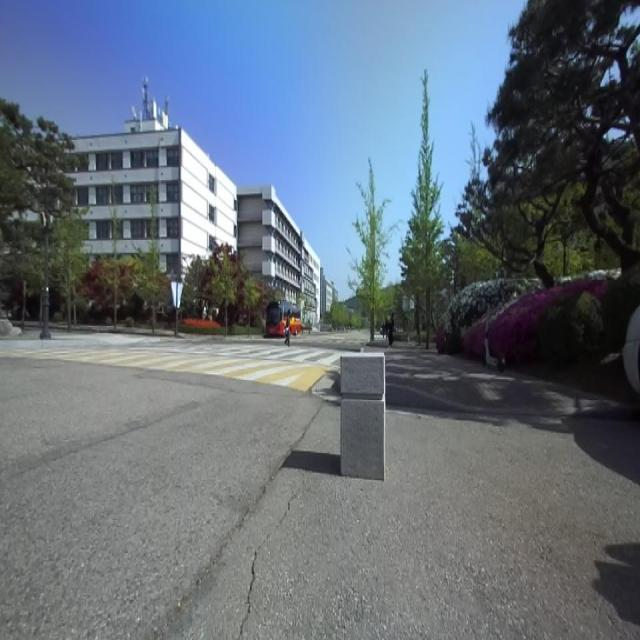sidewalk: (362, 336, 634, 418)
